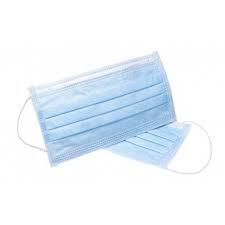mask: (36, 63, 181, 142)
